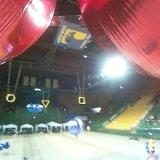Purple_Balloon: (67, 118, 83, 137), (24, 157, 26, 160)
Yellow_Circle_GShape: (5, 94, 15, 102)
Yellow_Square_GShape: (78, 96, 86, 105)
Yellow_Triangle_Gshape: (41, 100, 50, 108)
